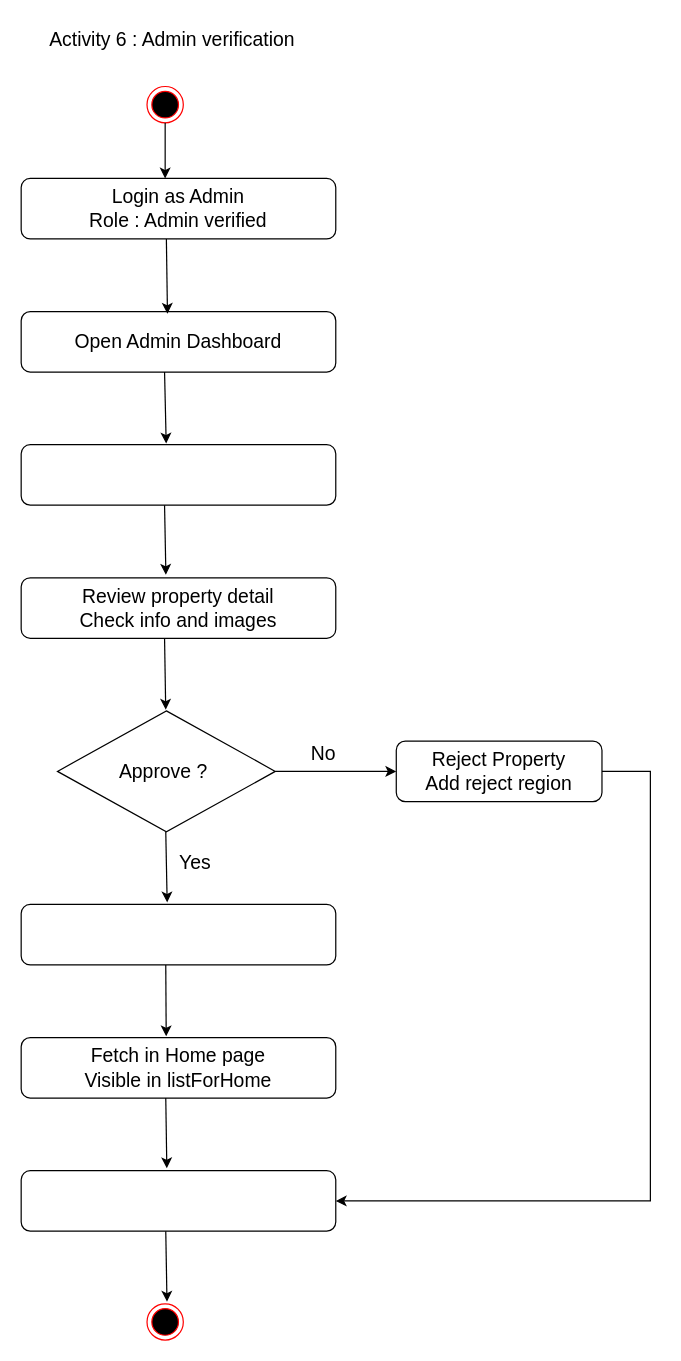
The diagram is 681 pixels wide and 1361 high, and some of its shapes have lost their labels. The shapes that lost their labels are listed below. From the top down, each one's centre as x and y in pixels, then its label:
At (178,474): "View Pending properties Filter : status = inactive".
At (178,934): "Update DS2 : Properties status = active".
At (178,1200): "Notify Agent Approved / Reject".
